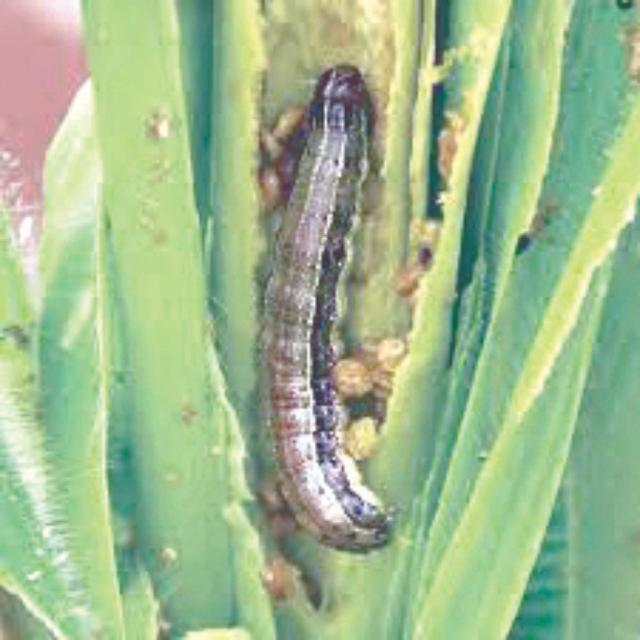Fall-armyworm: (263, 62, 398, 557)
